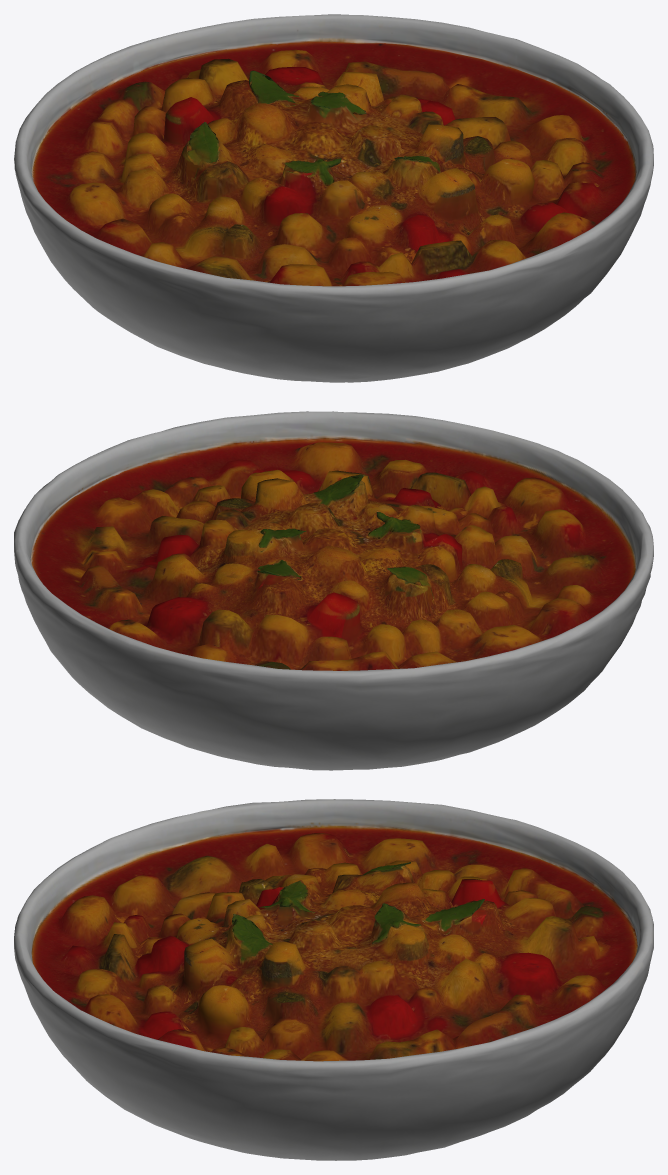
Rendered from zuppa_minestrone.fbx.
3 views of the same model, one above another, from view 1: azimuth 30°, elevation 25°; view 2: azimuth 150°, elevation 25°; view 3: azimuth 270°, elevation 25° (orthographic).
Parts seen in each view (by area): view 1: meshes[0]; view 2: meshes[0]; view 3: meshes[0].
Boxes of the visible parts, <box> form: meshes[0]: <box>14,14,653,382</box>; meshes[0]: <box>14,411,653,770</box>; meshes[0]: <box>14,799,653,1160</box>.
Bounding box in the file's own units: 99.8 × 37.3 × 99.8.
1 material, 1 textured.
